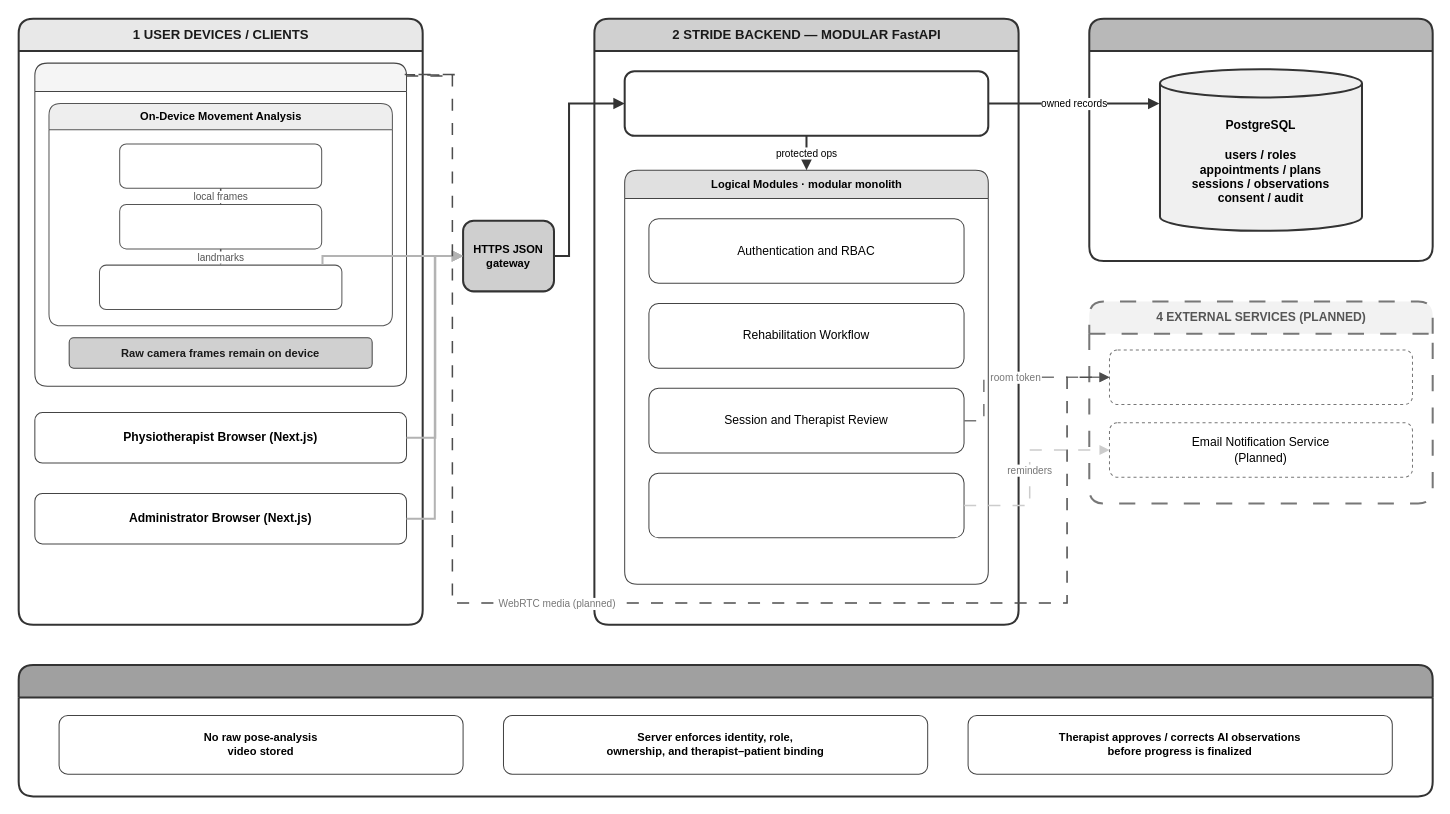
This 1450x814 diagram has some shape labels left out. The shapes that lost their labels are listed below. From the top down, each one's box as (x1, y1, x2, y2) in pixels, then its label:
(623, 70, 989, 136): FastAPI REST API identity · role · ownership checks
(1088, 17, 1433, 262): 3 DATA LAYER
(119, 143, 322, 188): Camera and Consent Gate opt-in required
(34, 62, 407, 386): Patient Browser (Next.js)
(119, 204, 322, 249): MediaPipe Pose and Hand Landmarker
(98, 264, 342, 310): Metric Derivation joint angles · reps · confidence
(1108, 349, 1412, 405): LiveKit Video Rooms (Planned)
(648, 472, 964, 538): Consent and Audit
(17, 664, 1433, 797): 5 PRIVACY & DESIGN GUARANTEES
